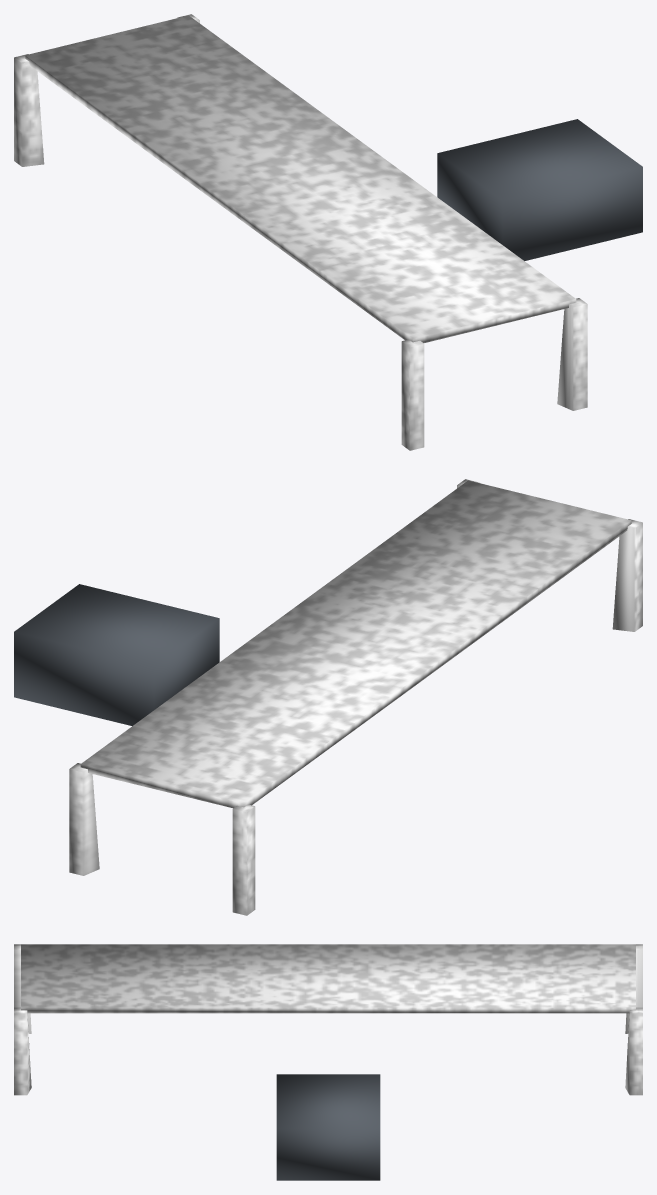
Rendered from Sklad.fbx.
3 renders of one model, top to bottom at view 1: azimuth 30°, elevation 25°; view 2: azimuth 150°, elevation 25°; view 3: azimuth 270°, elevation 25°, orthographic. The views are drawn at different scales.
Parts seen in each view (by area): view 1: Styelazh, box; view 2: Styelazh, box; view 3: Styelazh, box.
Boxes of the visible parts, x1=… form: Styelazh: x1=14, y1=14, x2=587, y2=450; box: x1=437, y1=119, x2=642, y2=260; Styelazh: x1=69, y1=479, x2=642, y2=915; box: x1=14, y1=584, x2=219, y2=725; Styelazh: x1=14, y1=944, x2=642, y2=1095; box: x1=276, y1=1074, x2=380, y2=1180.
Size of the model in its own units: 282 by 72.43 by 485.
1 material, 1 textured.
